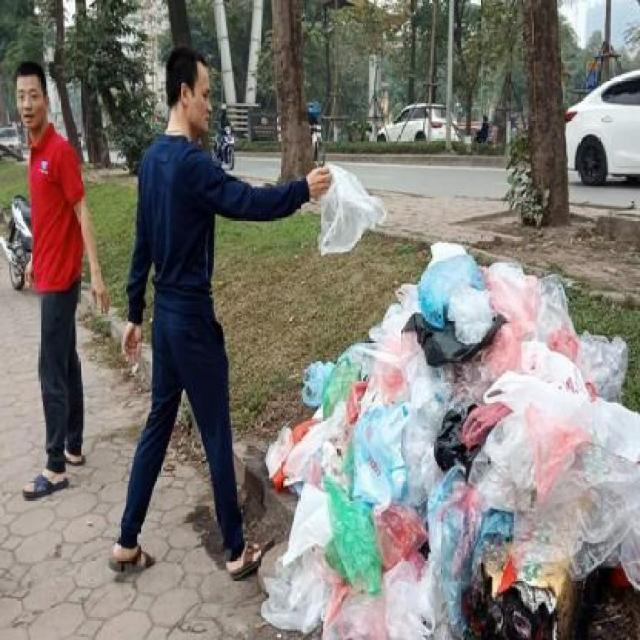plastic bag: (238, 218, 634, 638), (388, 222, 560, 384), (314, 160, 395, 266)
